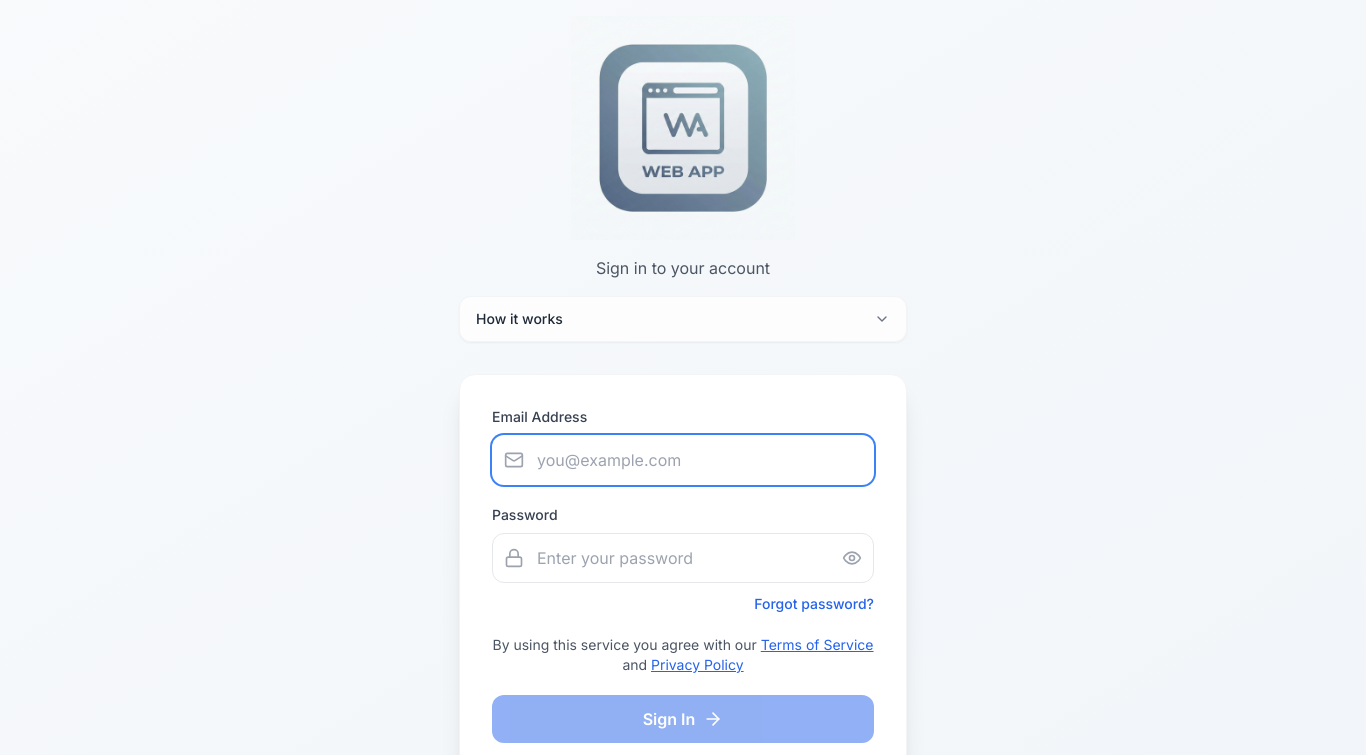
AuthPage — sign-in mode (default) › shows error message on sign-in failure
The image size is (1366, 755).
Type "user@test.com" into the field with placeholder "you@example.com". click: (683, 460)
box: left=492, top=435, right=874, bottom=485
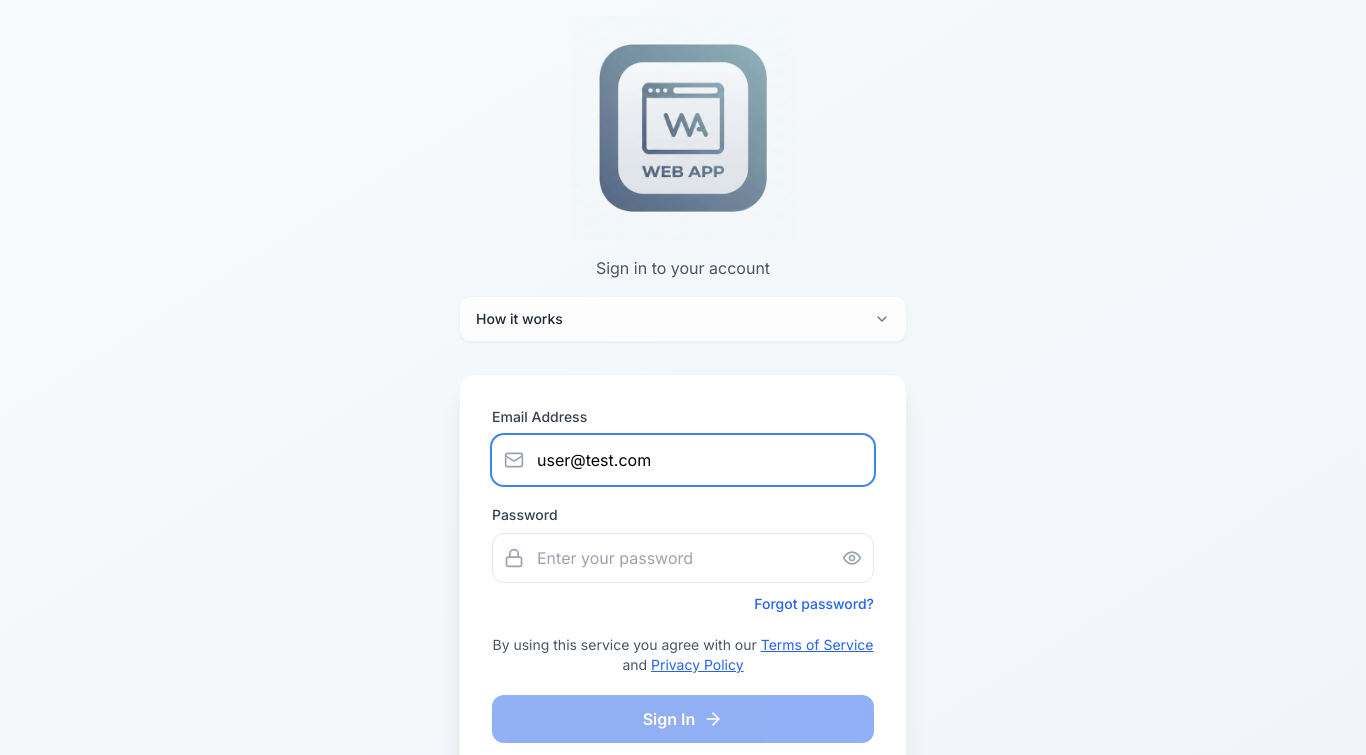
Type "wrong" into the password field with placeholder "Enter your password". click: (683, 558)
box: left=492, top=533, right=874, bottom=583
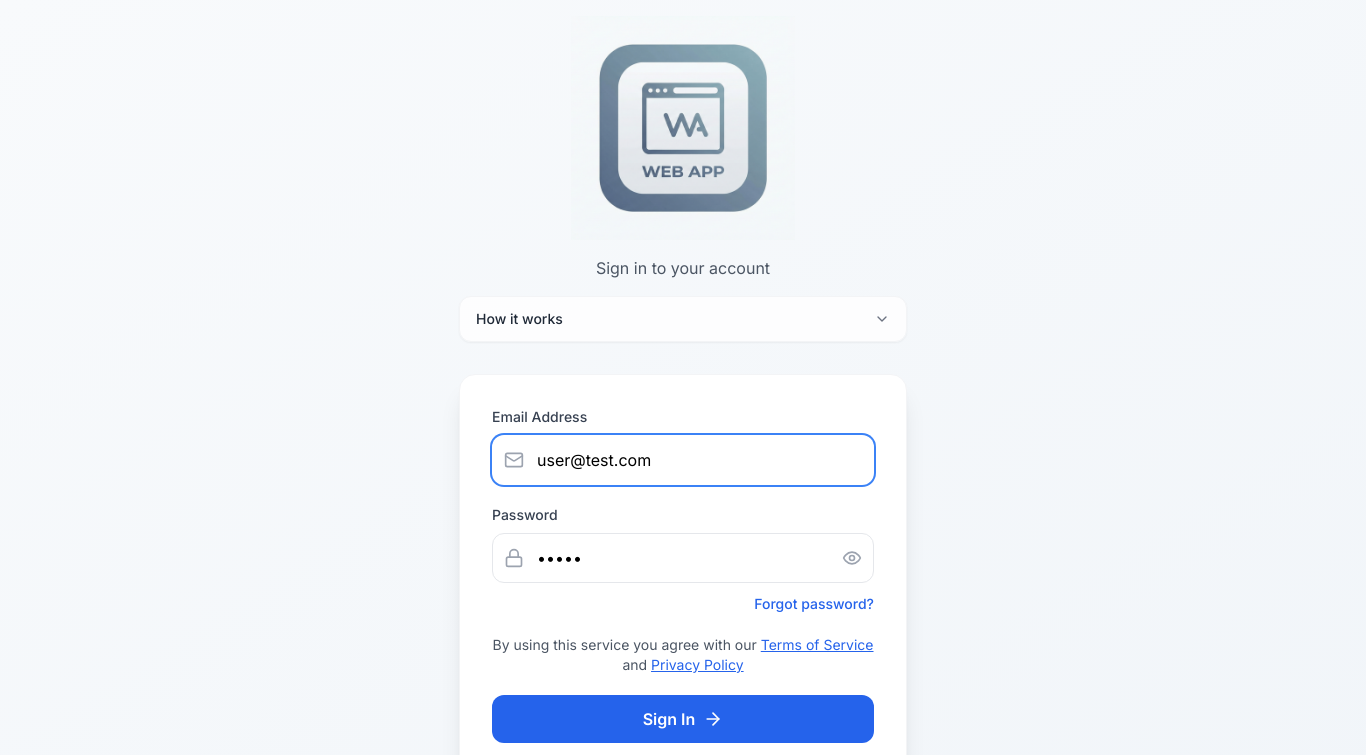
Click the button "Sign In". click: (683, 719)
box: left=492, top=695, right=874, bottom=743
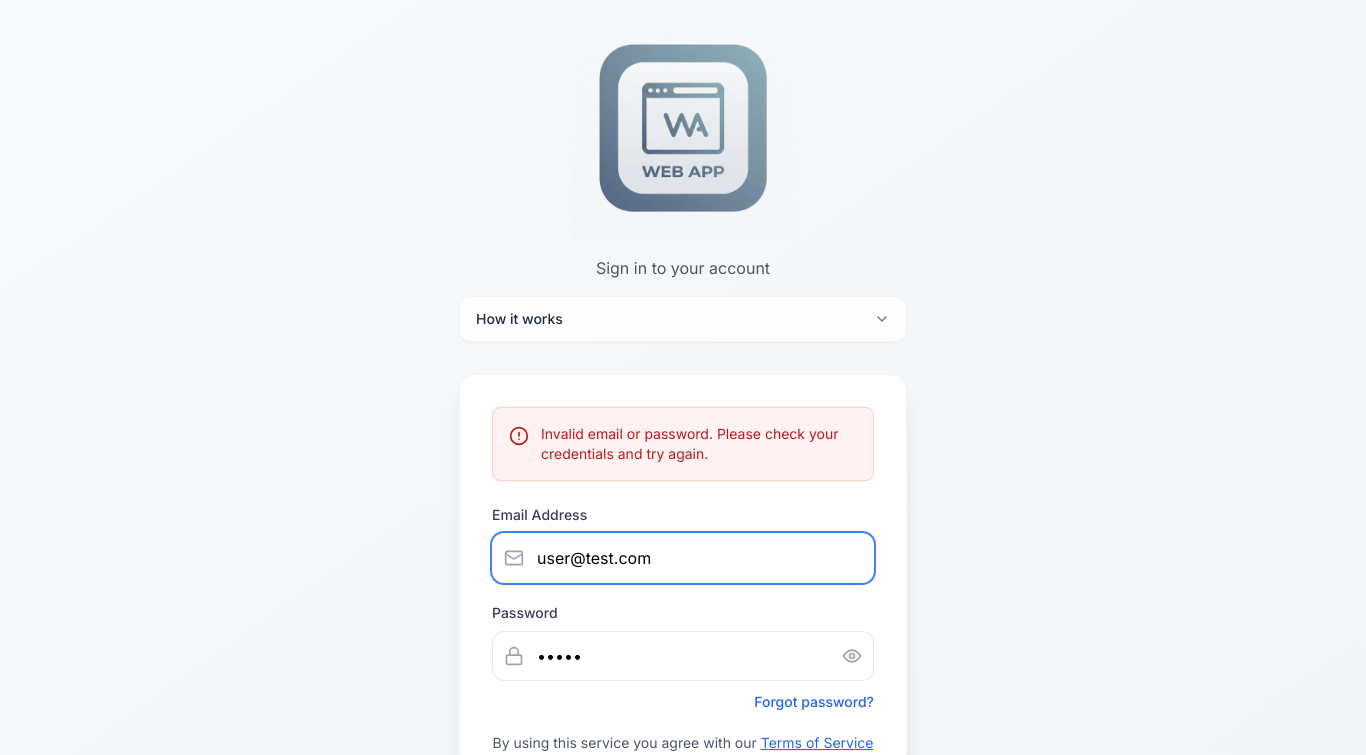
Result: the text "Invalid email or password" is shown at left=541, top=425, right=838, bottom=462
